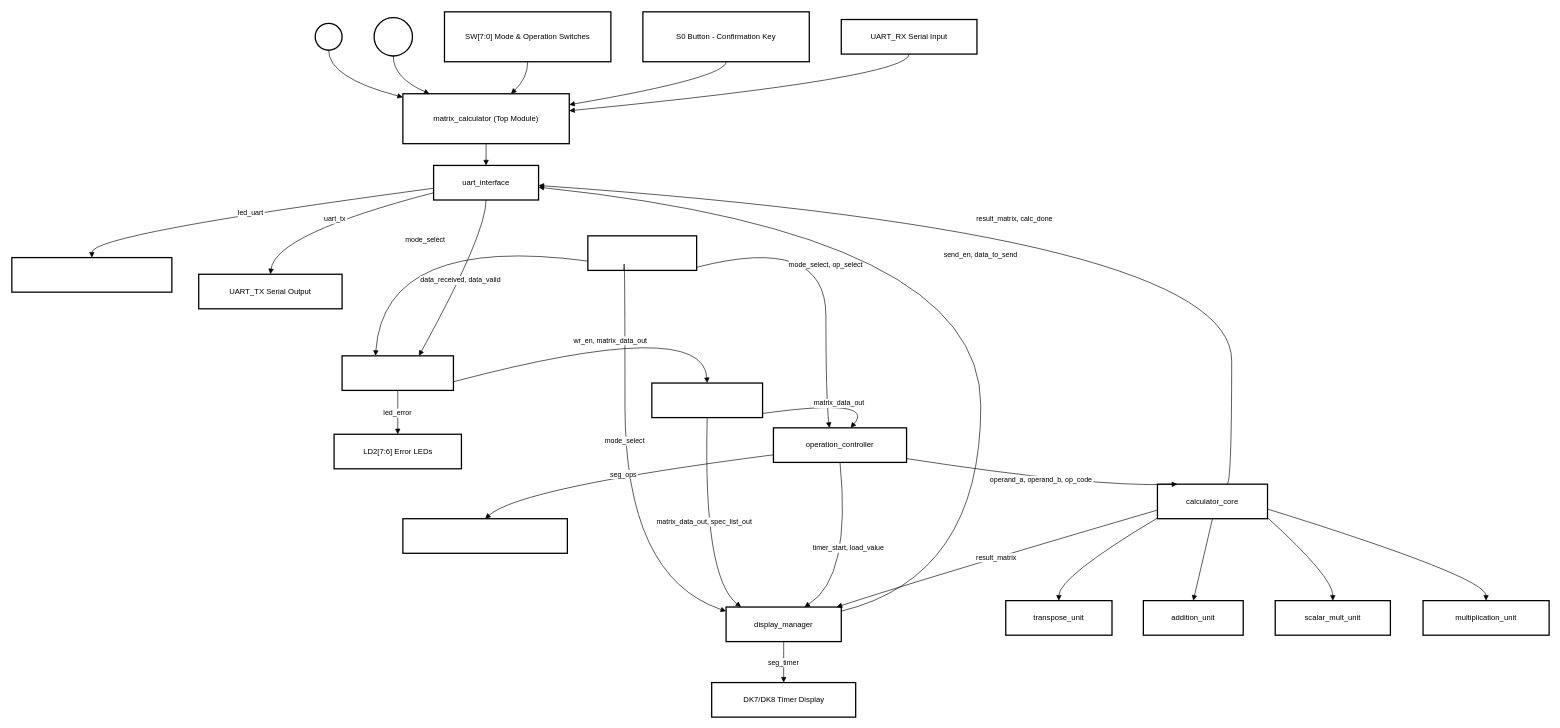
The diagram is 1560 pixels wide and 728 high, and some of its shapes have lost their labels. The shapes that lost their labels are listed below. From the top down, each one's centre as x and y in pixels, then its label:
[328,36]: CLK
[393,36]: RST_N
[642,253]: mode_manager
[91,274]: LD1[1:0] UART Status LEDs
[397,373]: input_processor
[707,400]: matrix_memory
[485,536]: DK1 Operation Type Display
